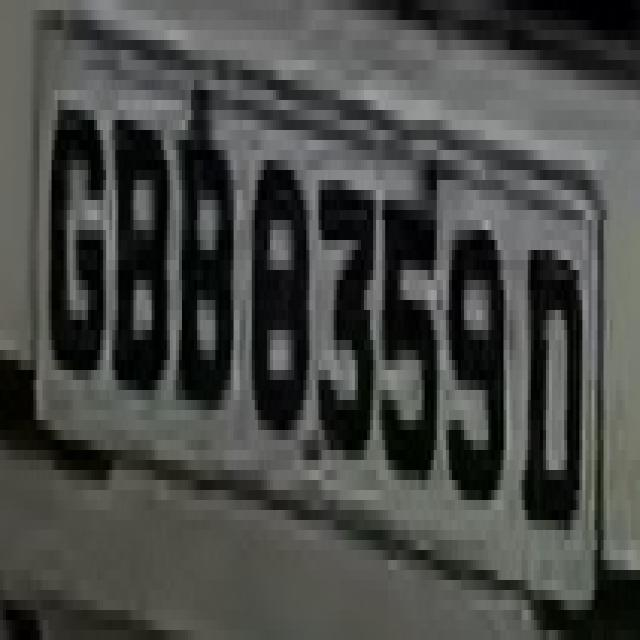3: (310, 180, 380, 490)
5: (373, 130, 443, 500)
8: (246, 150, 318, 450)
9: (442, 200, 516, 530)
B: (167, 120, 249, 420), (106, 100, 176, 400)
D: (519, 220, 585, 540)
G: (46, 70, 112, 420)
